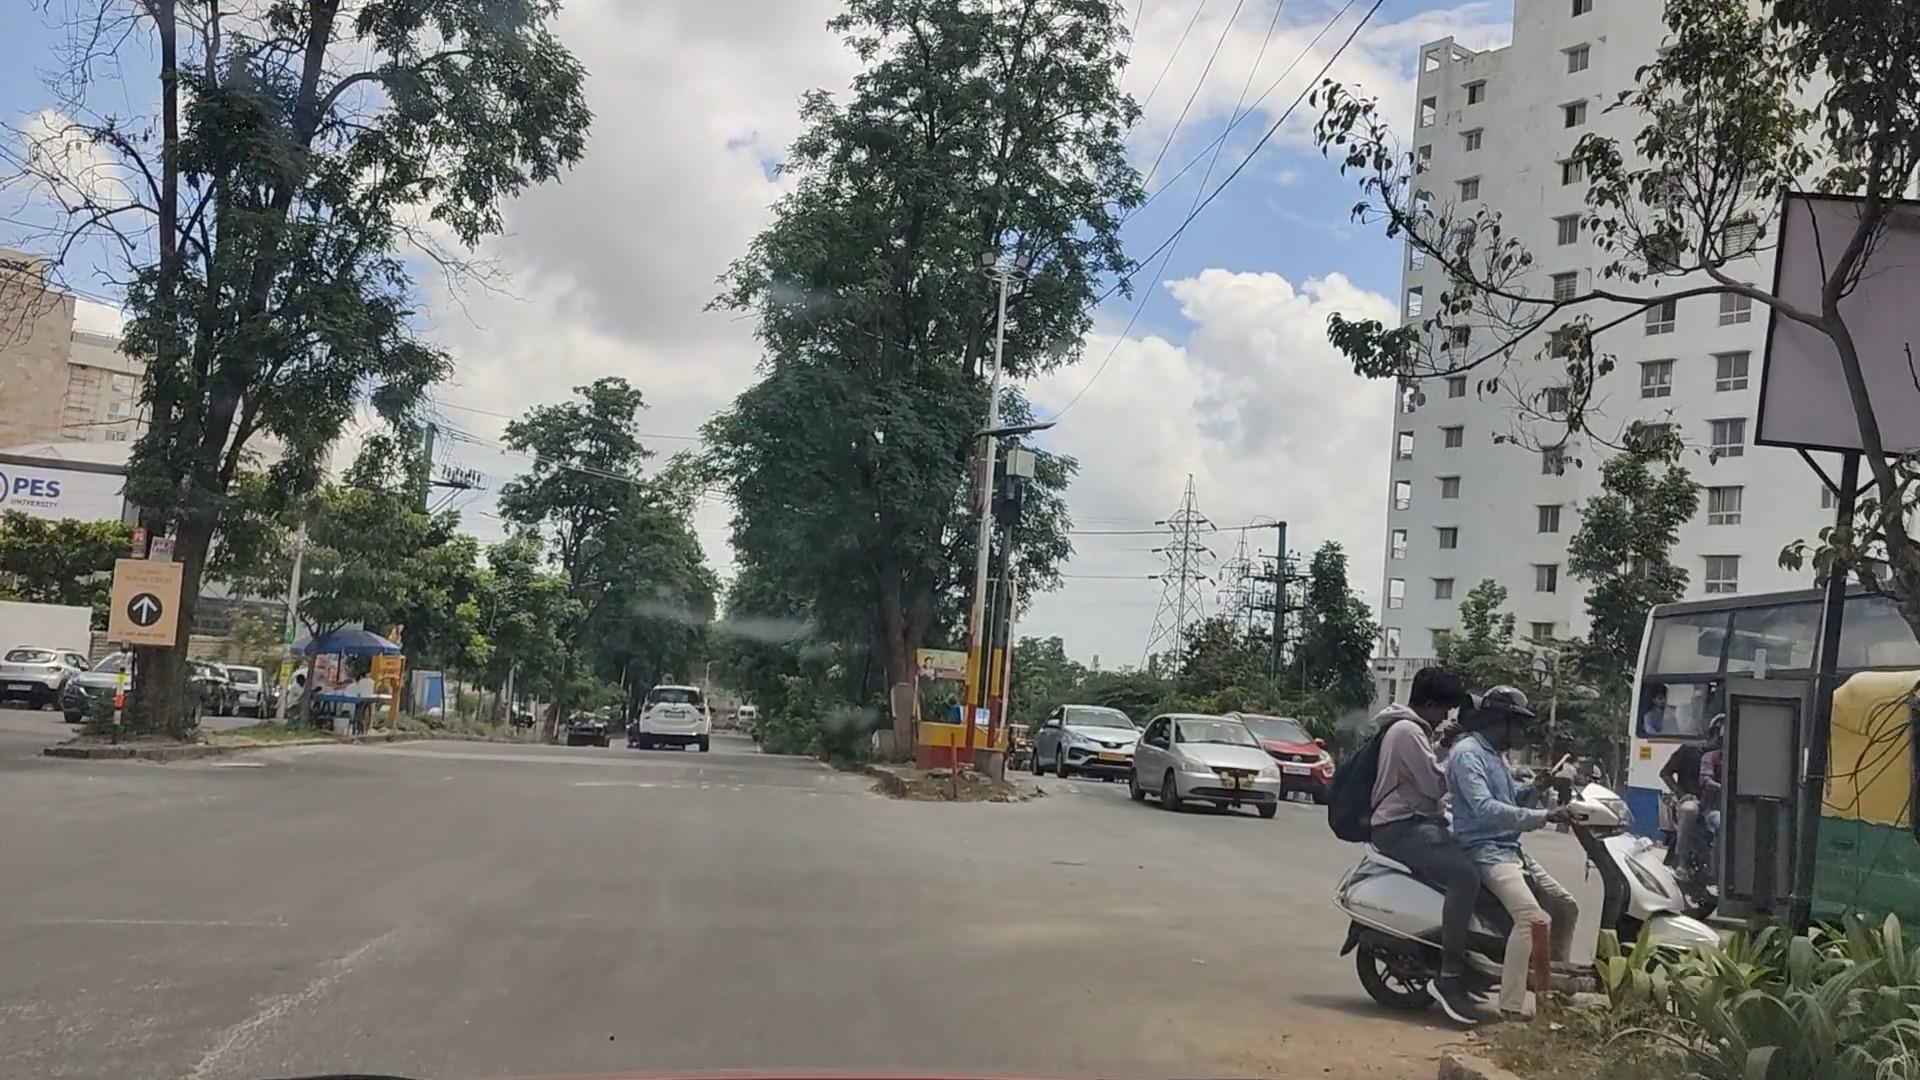RoadDamages: (210, 890, 433, 1073)
